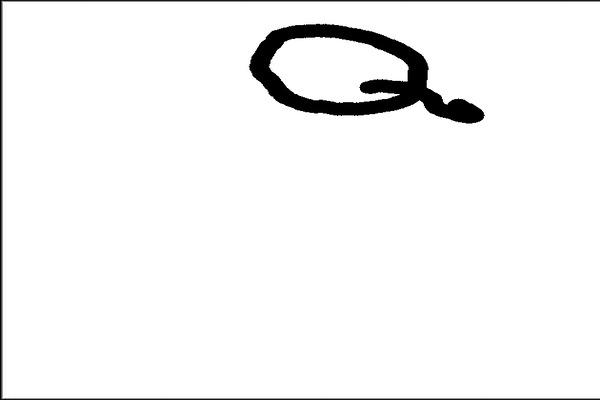Q: (240, 11, 495, 135)
